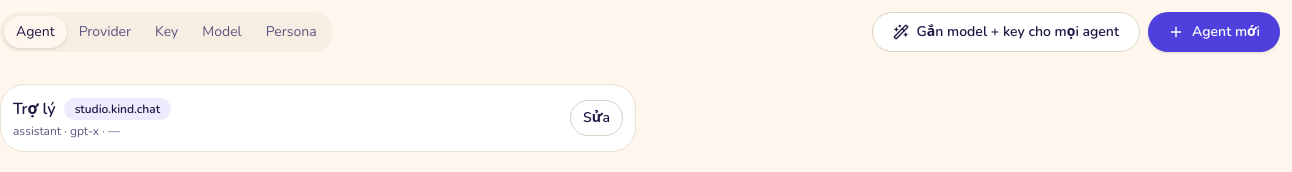
Test case: Studio — nút cấp tab nằm ở hàng tab › đổi tab: nút agents biến mất, provider-add xuất hiện
Expected: the button with test id "agent-add" is shown, [1148,12,1280,52]
Click the tab with test id "studio-tab-providers" at [105, 32], box [67,16,143,48]
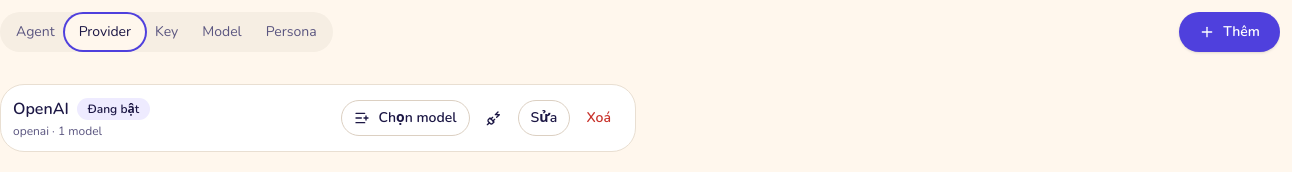
Result: the button with test id "provider-add" is shown at [1179,12,1280,52]
Result: the button with test id "agent-add" is gone
